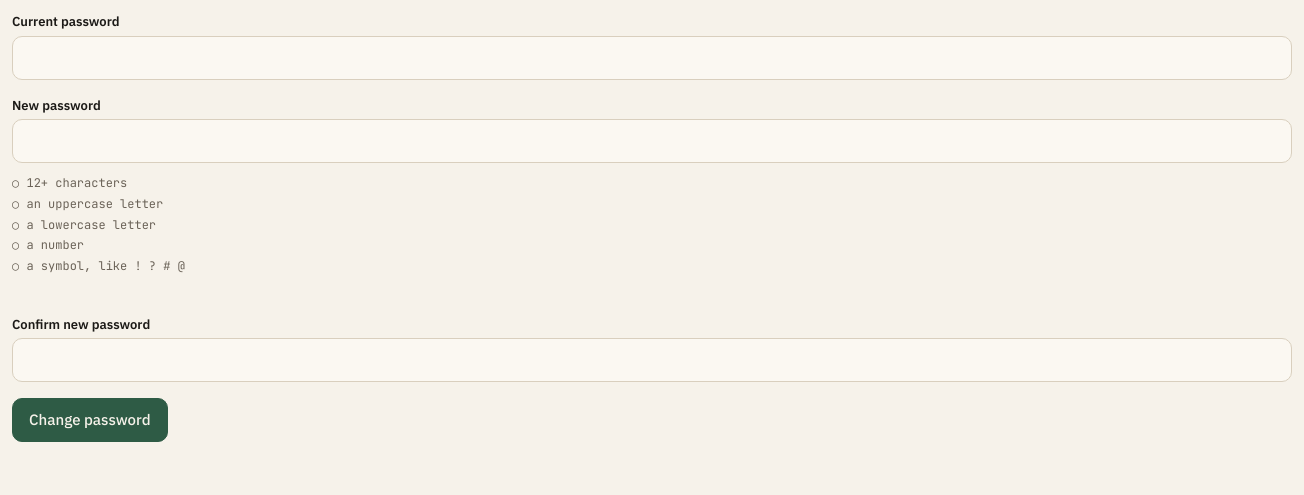
Test case: ChangePassword › refuses mismatched passwords, then changes it
Type "old-Pass1!" into the password field labelled "Current password" at [652, 58], box x1=12 y1=36 x2=1292 y2=80
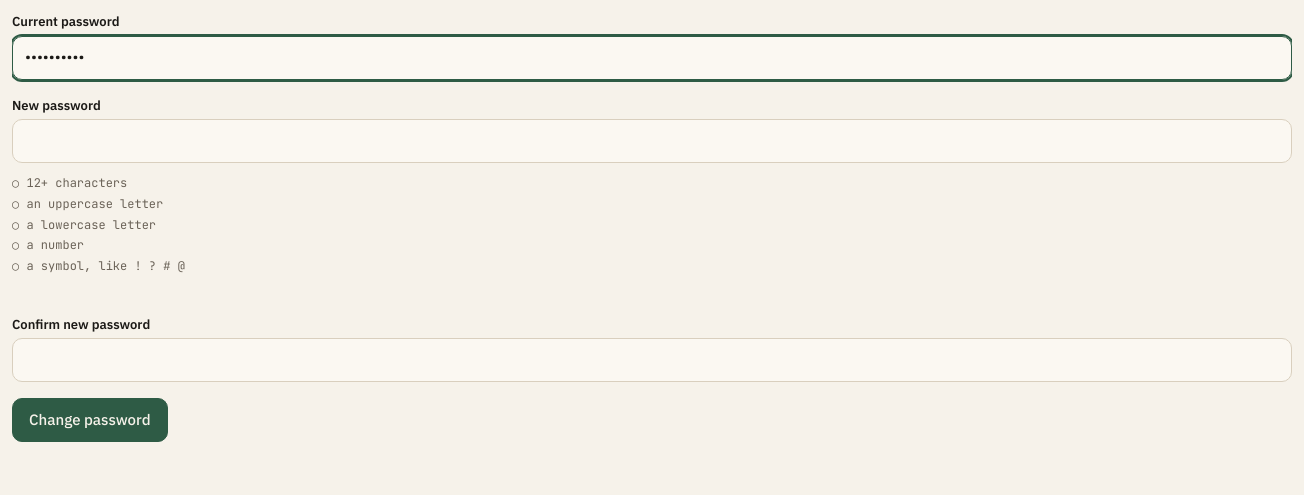
Type "Quiet?Barbell7!" into the password field labelled "New password" at [652, 141], box x1=12 y1=119 x2=1292 y2=163
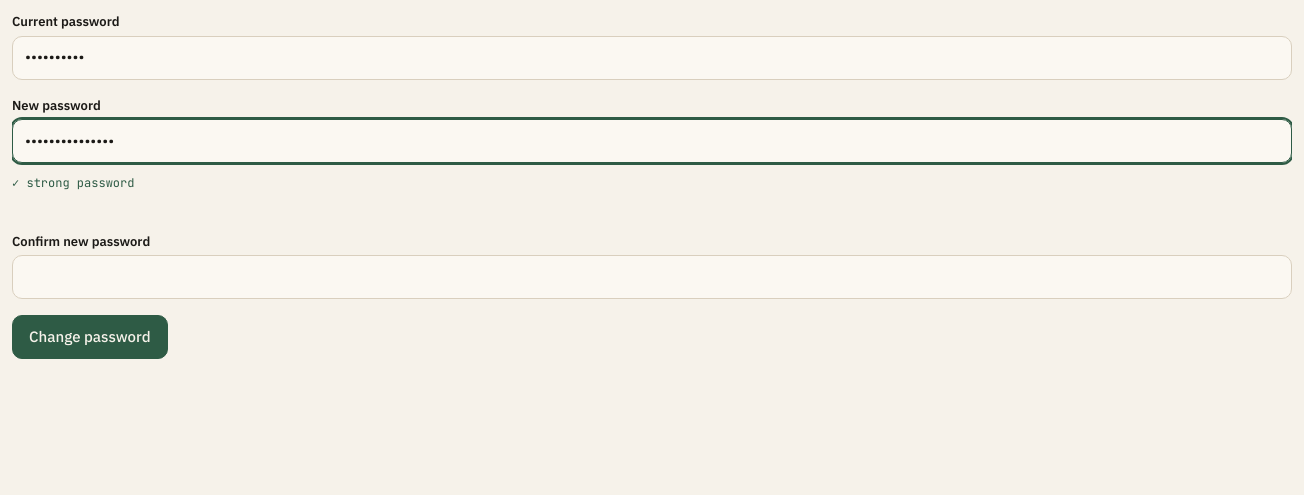
Type "Quiet?Barbell7" into the password field labelled "Confirm new password" at [652, 277], box x1=12 y1=255 x2=1292 y2=299
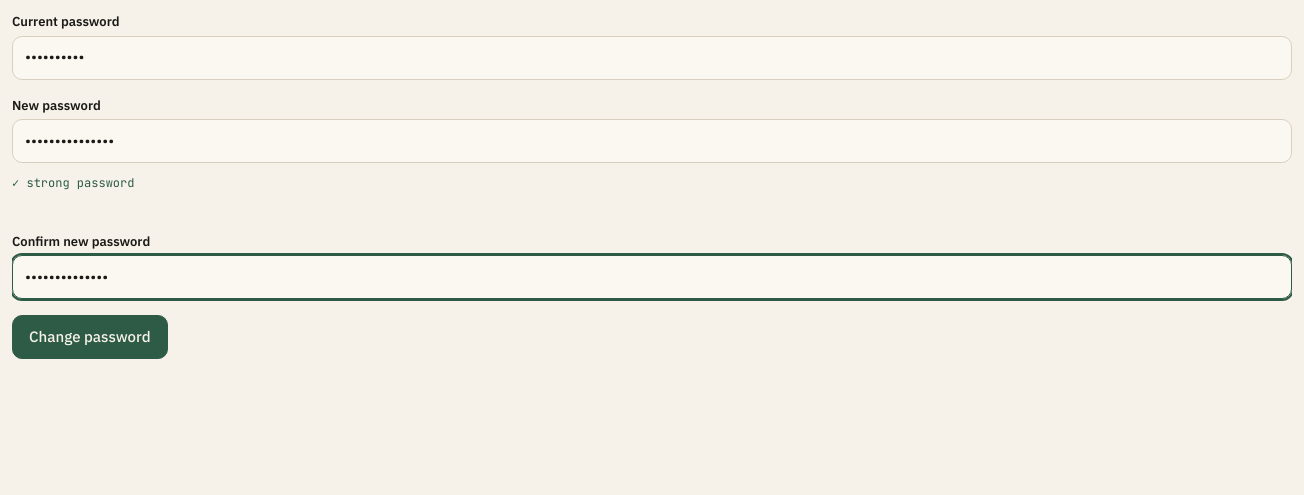
Click the button "Change password" at [90, 337], box x1=12 y1=315 x2=168 y2=359
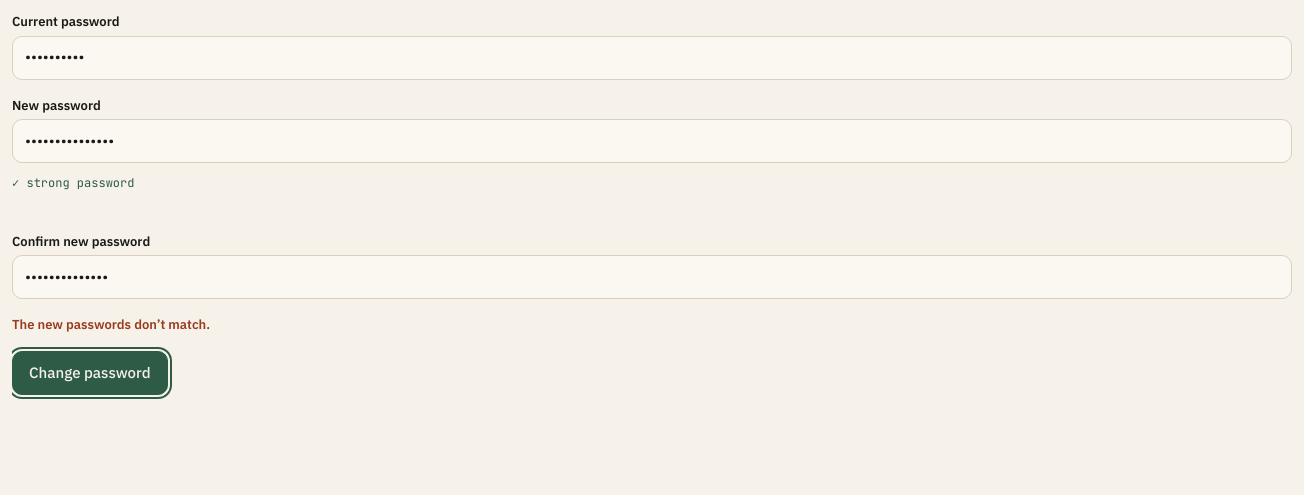
Now the message shows "don’t match", box x1=12 y1=316 x2=210 y2=333
Type "Quiet?Barbell7!" into the password field labelled "Confirm new password" at [652, 277], box x1=12 y1=255 x2=1292 y2=299
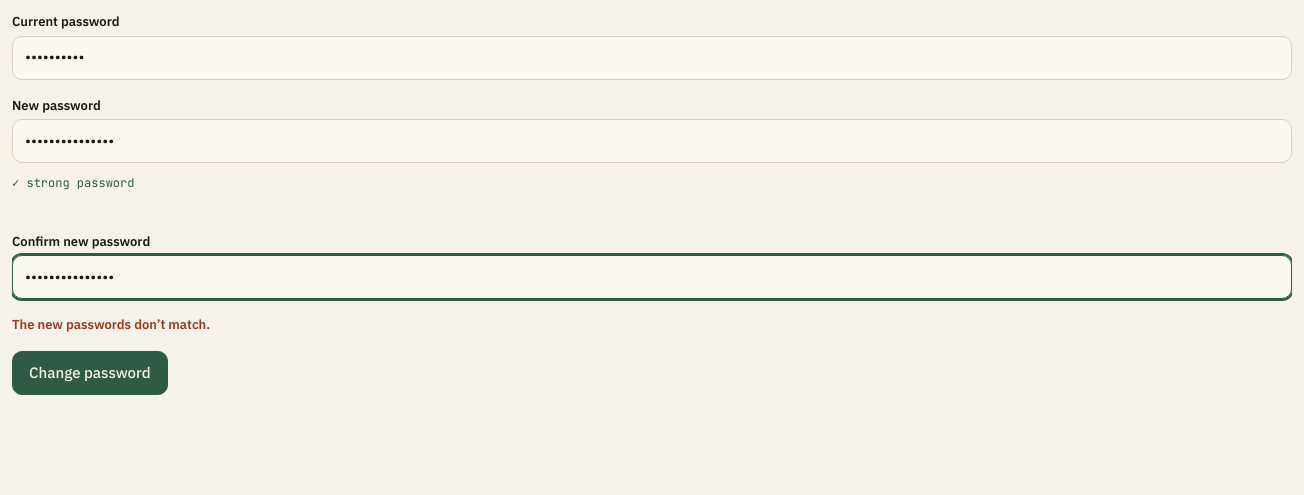
Click the button "Change password" at [90, 373], box x1=12 y1=351 x2=168 y2=395
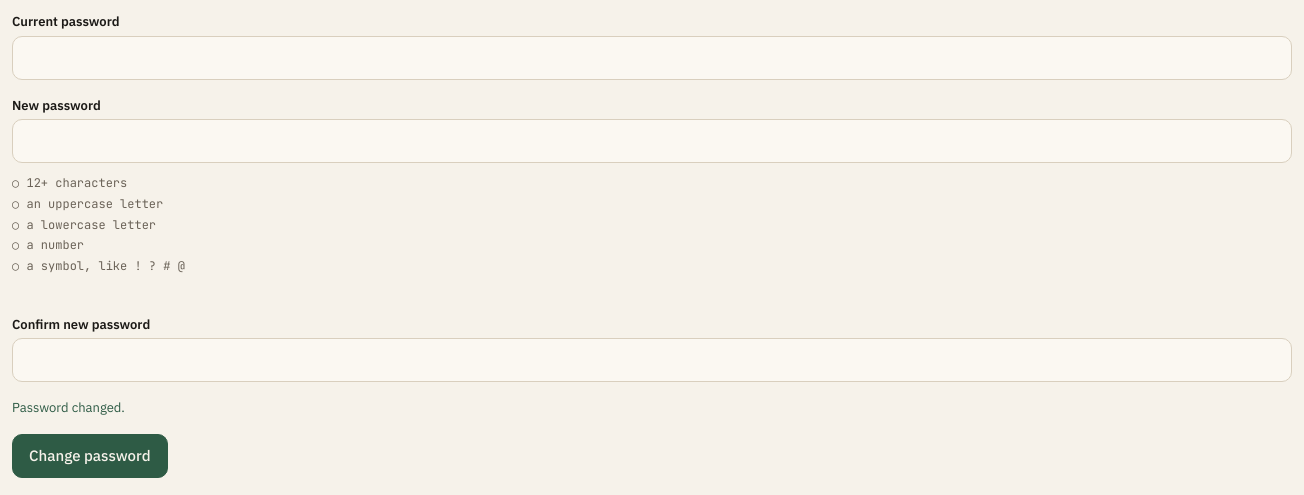
Now the text "Password changed." is shown, box x1=12 y1=400 x2=125 y2=416
